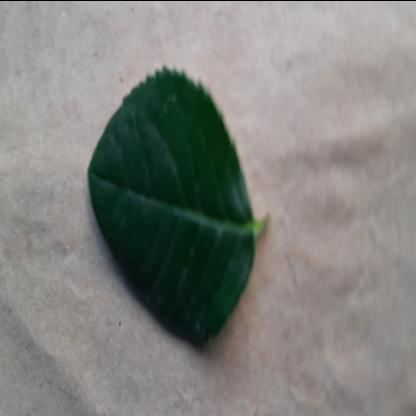powdery-mildew: (89, 64, 253, 336)
